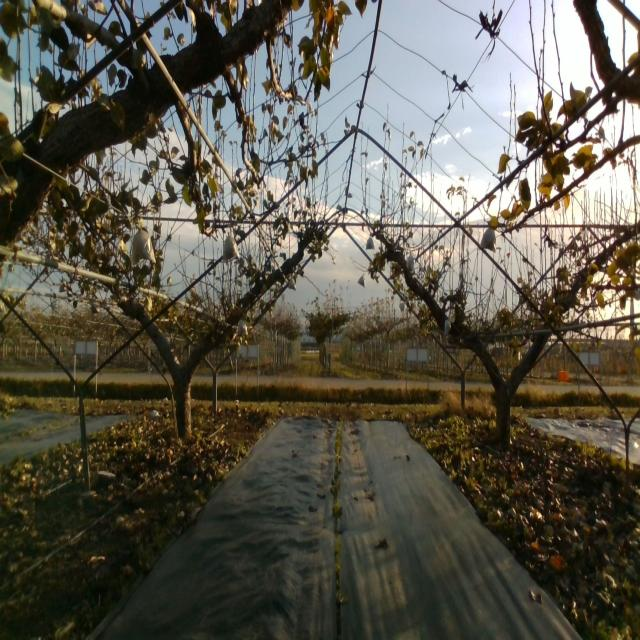pearbags: (130, 221, 156, 267), (222, 232, 238, 261), (480, 223, 495, 249)
